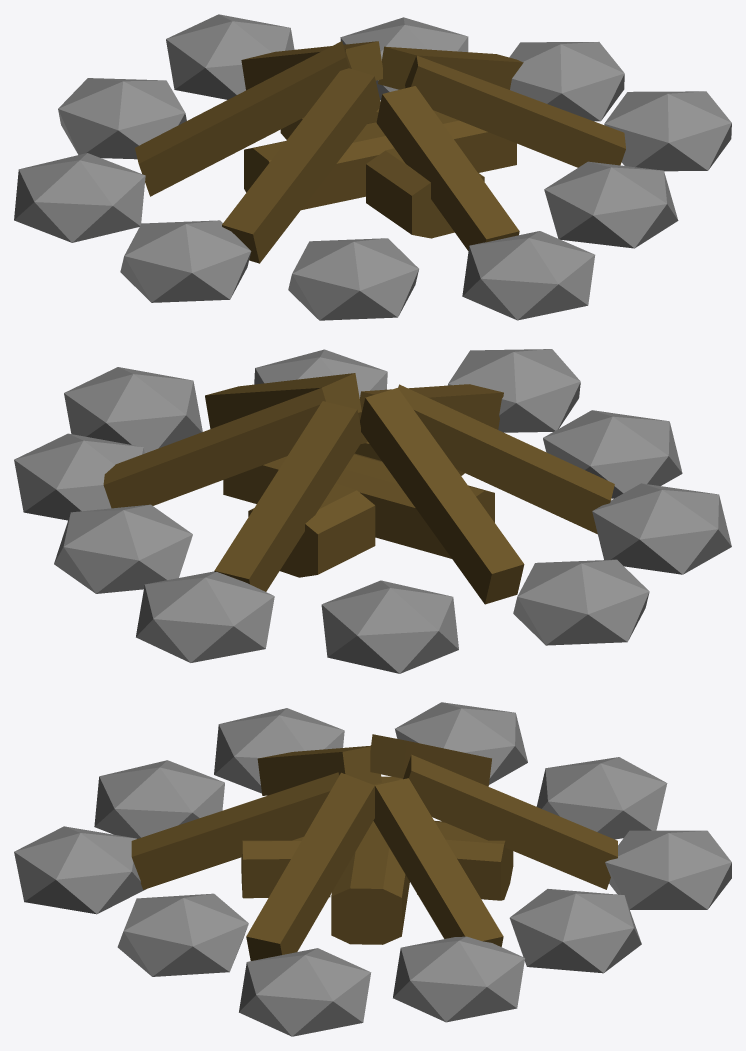
File: campfire.fbx
3 renders of one model, top to bottom at view 1: azimuth 30°, elevation 25°; view 2: azimuth 150°, elevation 25°; view 3: azimuth 270°, elevation 25°, orthographic. The views are drawn at different scales.
Visible parts, largest first — view 1: rocks, woods, woods2; view 2: rocks, woods, woods2; view 3: rocks, woods, woods2.
Boxes of the visible parts, left/top/right/bottom form: rocks: left=14, top=14, right=731, bottom=320; woods: left=135, top=41, right=625, bottom=263; woods2: left=244, top=108, right=516, bottom=238; rocks: left=14, top=349, right=731, bottom=673; woods: left=103, top=373, right=614, bottom=604; woods2: left=223, top=434, right=494, bottom=577; rocks: left=14, top=702, right=731, bottom=1036; woods: left=131, top=734, right=617, bottom=960; woods2: left=241, top=776, right=513, bottom=944.
Bounding box in the file's own units: 202 × 43.95 × 204.
